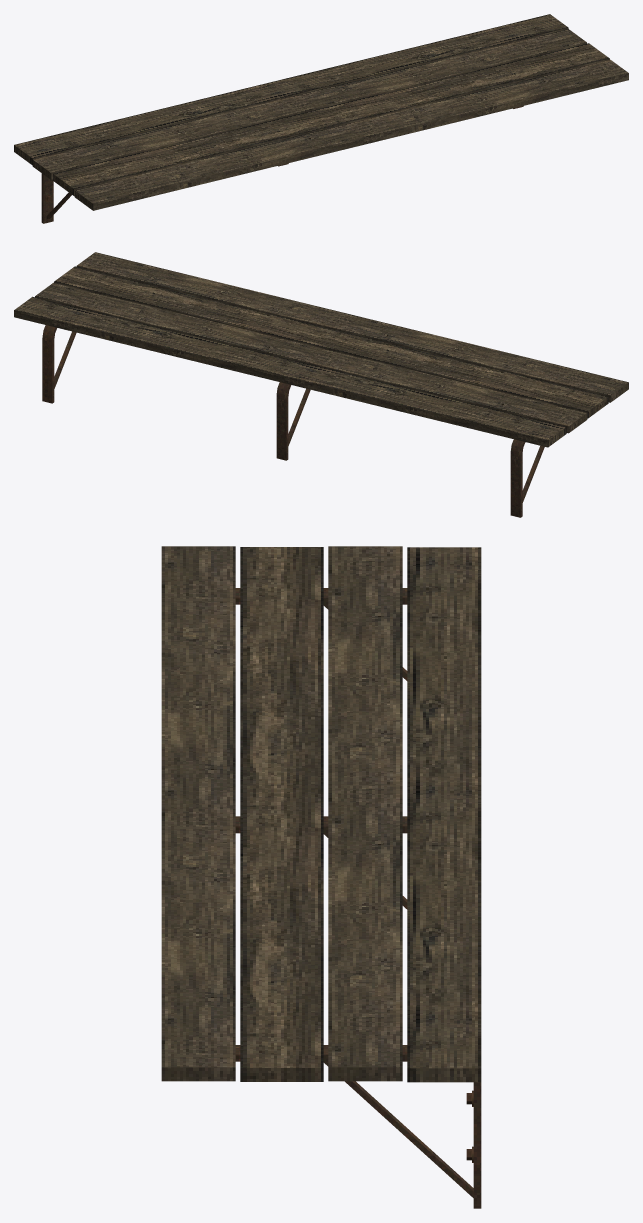
File: hanging_shelf_mx_3_1.glb
3 renders of one model, top to bottom at view 1: azimuth 30°, elevation 25°; view 2: azimuth 150°, elevation 25°; view 3: azimuth 270°, elevation 25°, orthographic. The views are drawn at different scales.
Visible parts, largest first — view 1: hanging_shelf_mx_3_1; view 2: hanging_shelf_mx_3_1; view 3: hanging_shelf_mx_3_1.
Part boxes in pixels (x1,y1,x2,y2): hanging_shelf_mx_3_1: [14, 14, 628, 223]; hanging_shelf_mx_3_1: [14, 252, 628, 517]; hanging_shelf_mx_3_1: [161, 546, 481, 1208].
Bounding box in the file's own units: 1.6 × 0.24 × 0.414.
2 materials, 2 textured.
